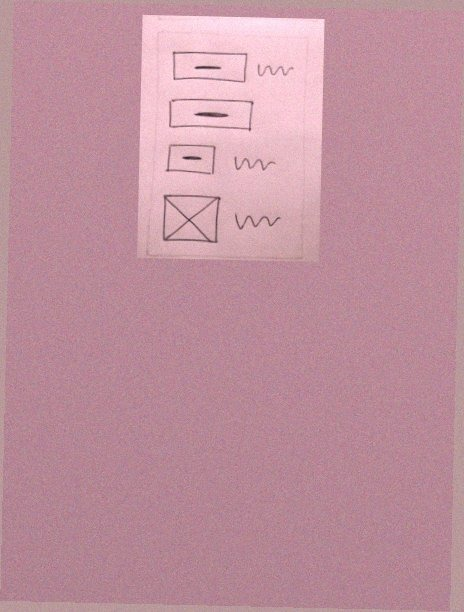button: (165, 96, 255, 135), (169, 48, 249, 87), (163, 142, 218, 177)
image: (159, 191, 222, 248)
text: (229, 153, 280, 177), (232, 210, 284, 233), (254, 60, 296, 81)
